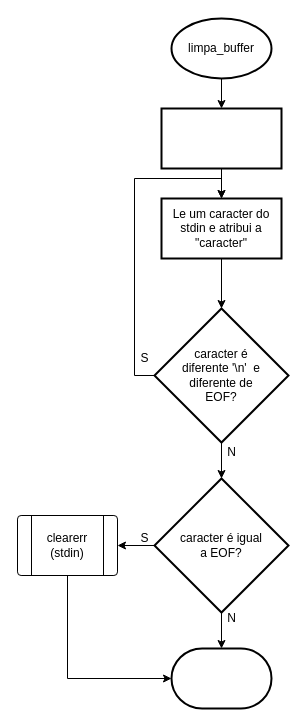
Some shapes in this 307 by 726 pixel diagram are drawn without their labels. Each missing label, with the box of its shape:
Declara char caracter: (160, 107, 282, 169)
Retorna: (170, 647, 272, 709)
